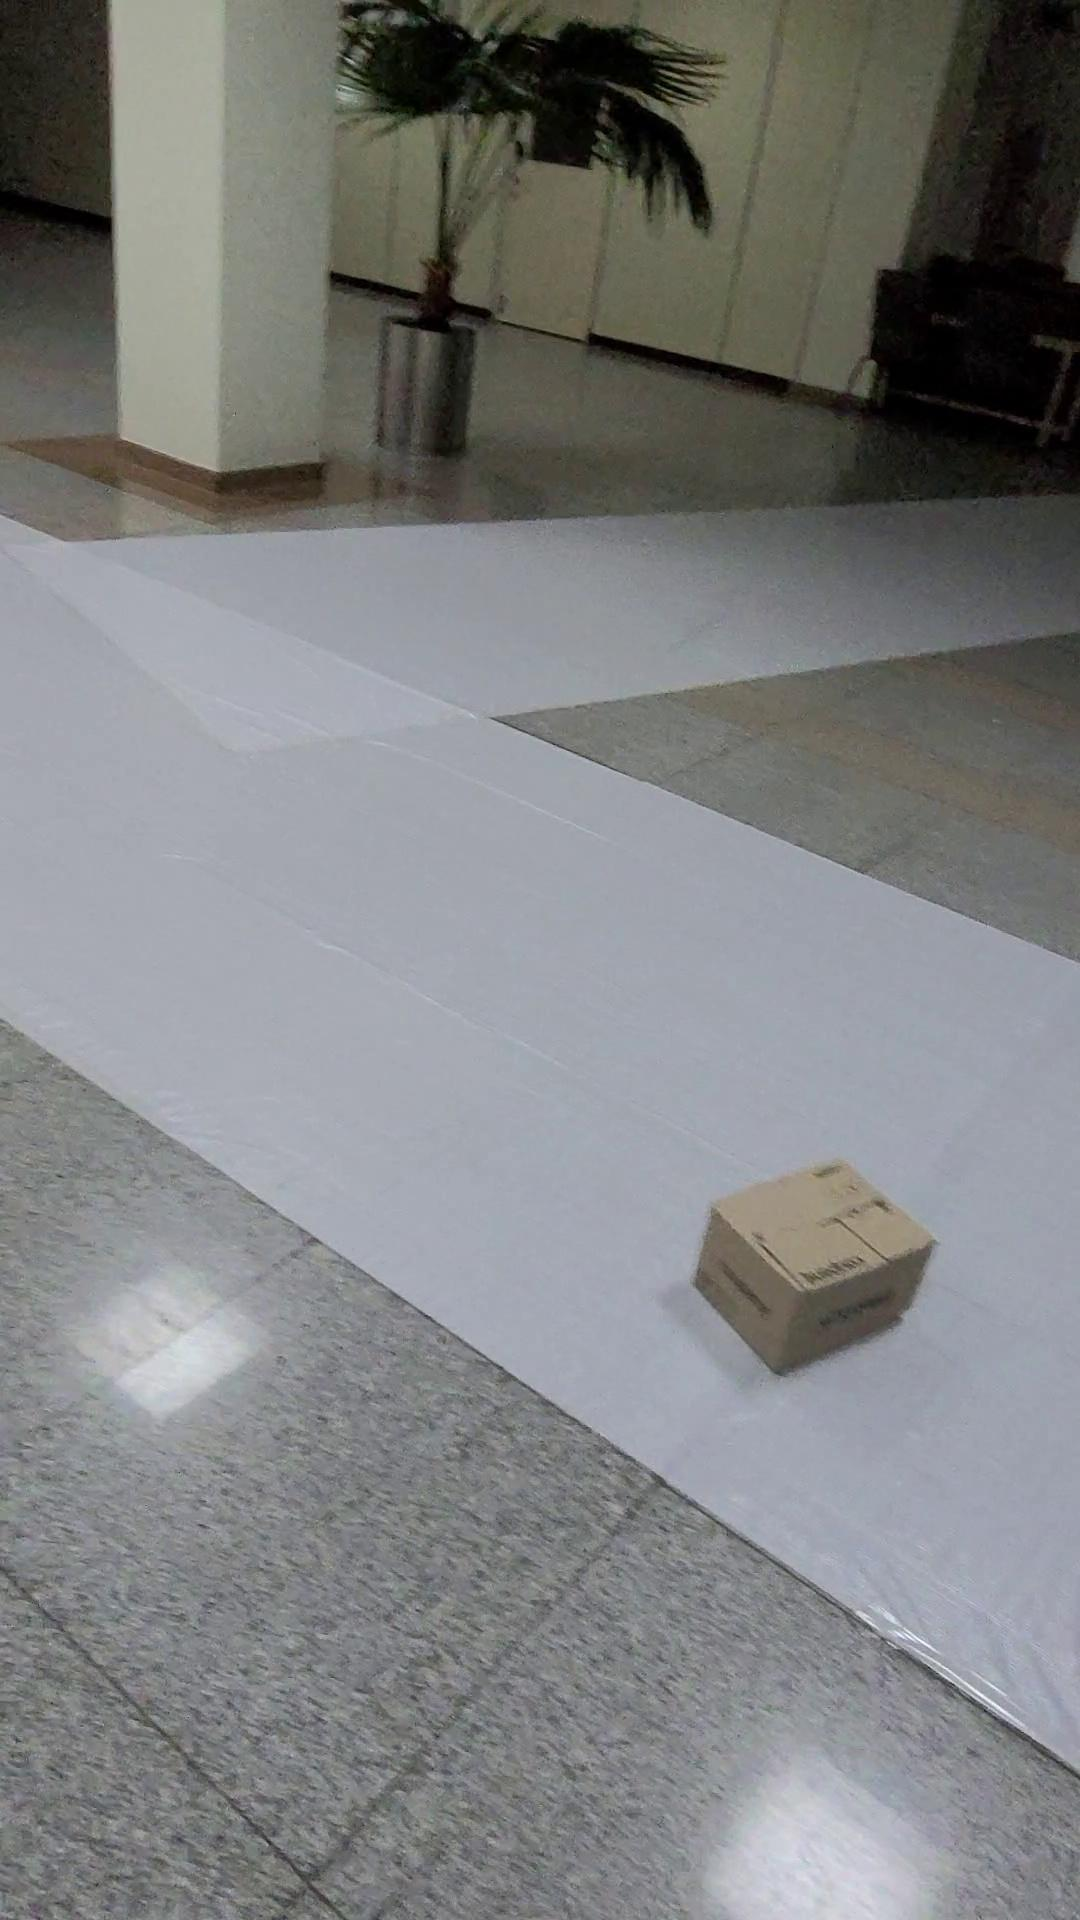Box: (673, 1155, 975, 1404)
